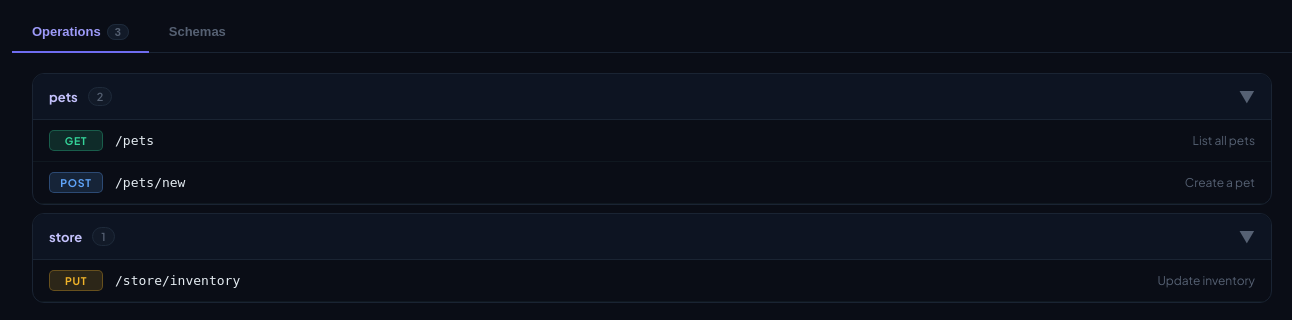
Scenario: OperationBrowser › group_collapse_toggle_works
Expected: the text "/pets" is shown, [115,133,154,148]
Click the button "pets 2 ▼" at {"x": 63, "y": 96}, box [33,74,1271,119]
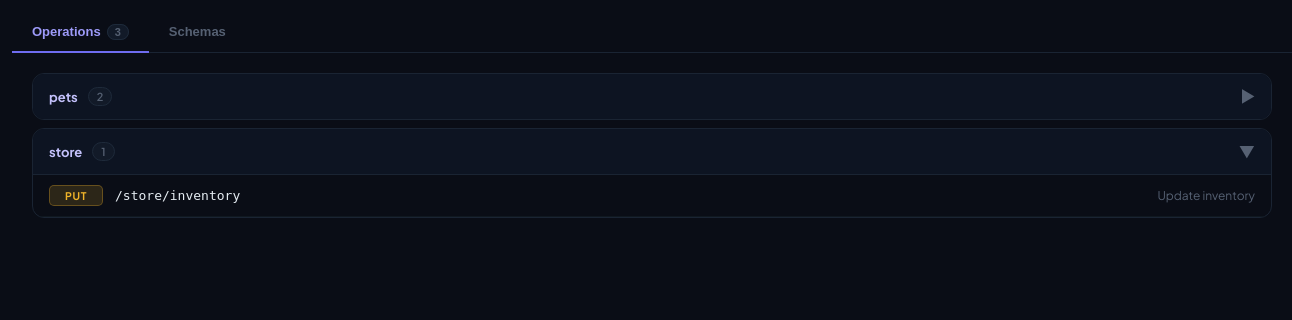
Expected: the text "/pets" is gone
// Expand again
Click the button "pets 2 ▼" at {"x": 63, "y": 96}, box [33,74,1271,119]
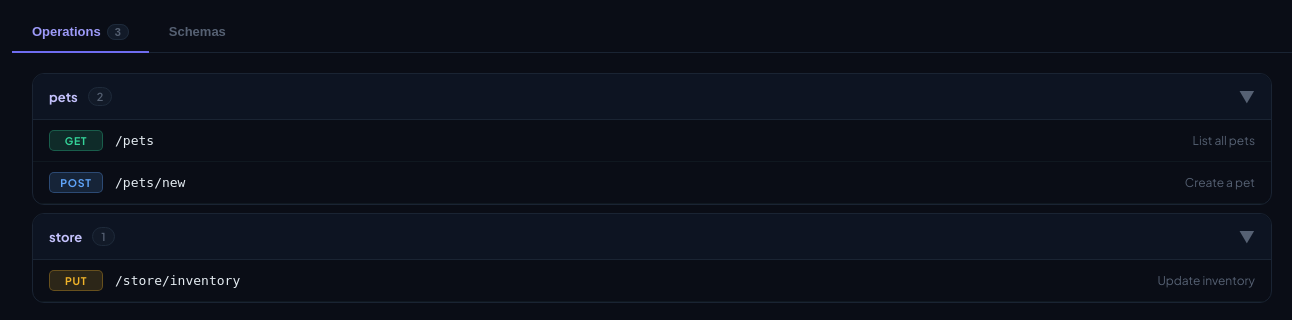
Expected: the text "/pets" is shown, [115,133,154,148]
